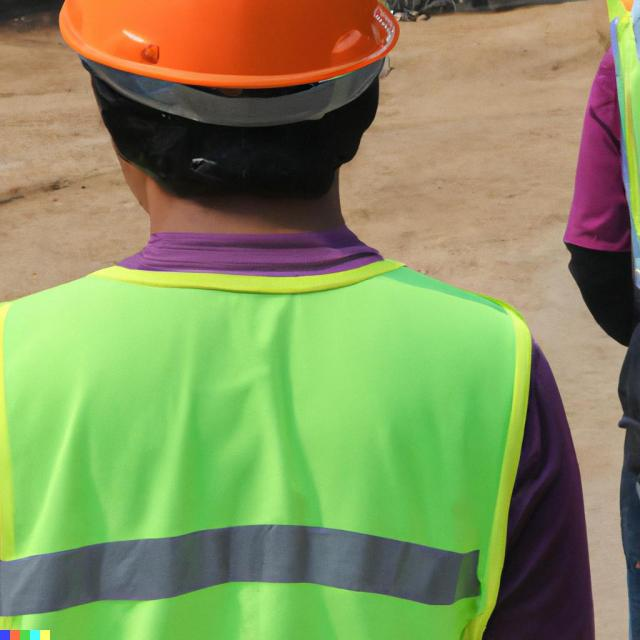Reflective-Jacket: (0, 241, 546, 640), (592, 1, 640, 268)
Safety-Helmet: (51, 1, 408, 91)
